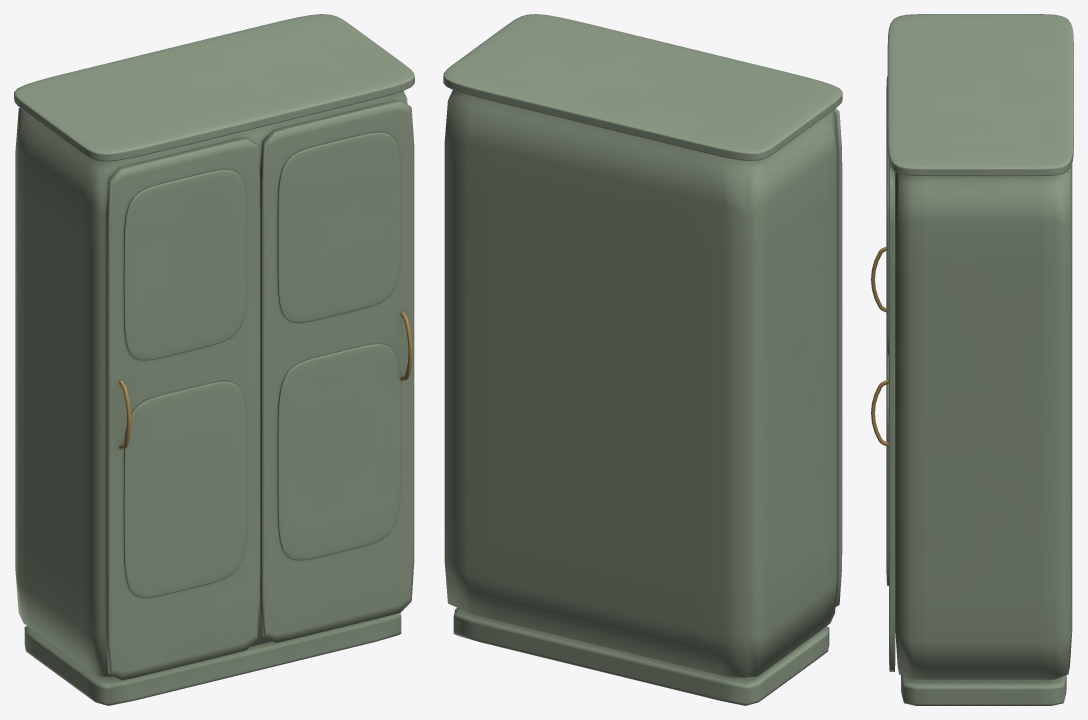
Rendered from sage-painted.glb.
The picture shows the model from 3 angles, left to right: view 1: azimuth 30°, elevation 25°; view 2: azimuth 150°, elevation 25°; view 3: azimuth 270°, elevation 25°; orthographic projection. The views are drawn at different scales.
Parts seen in each view (by area): view 1: paint_primary_wardrobe, brass_handle; view 2: paint_primary_wardrobe; view 3: paint_primary_wardrobe, brass_handle.
Part boxes in pixels (x1,y1,x2,y2): paint_primary_wardrobe: (14,14,414,705); brass_handle: (119,311,412,449); paint_primary_wardrobe: (443,14,842,705); paint_primary_wardrobe: (886,14,1073,705); brass_handle: (871,247,888,446).
Bounding box in the file's own units: 1.24 × 2.04 × 0.6865.
Materials: 2 (2 with a texture image).
